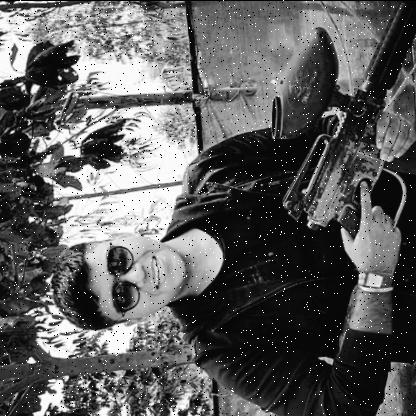rifle: (268, 0, 416, 242)
